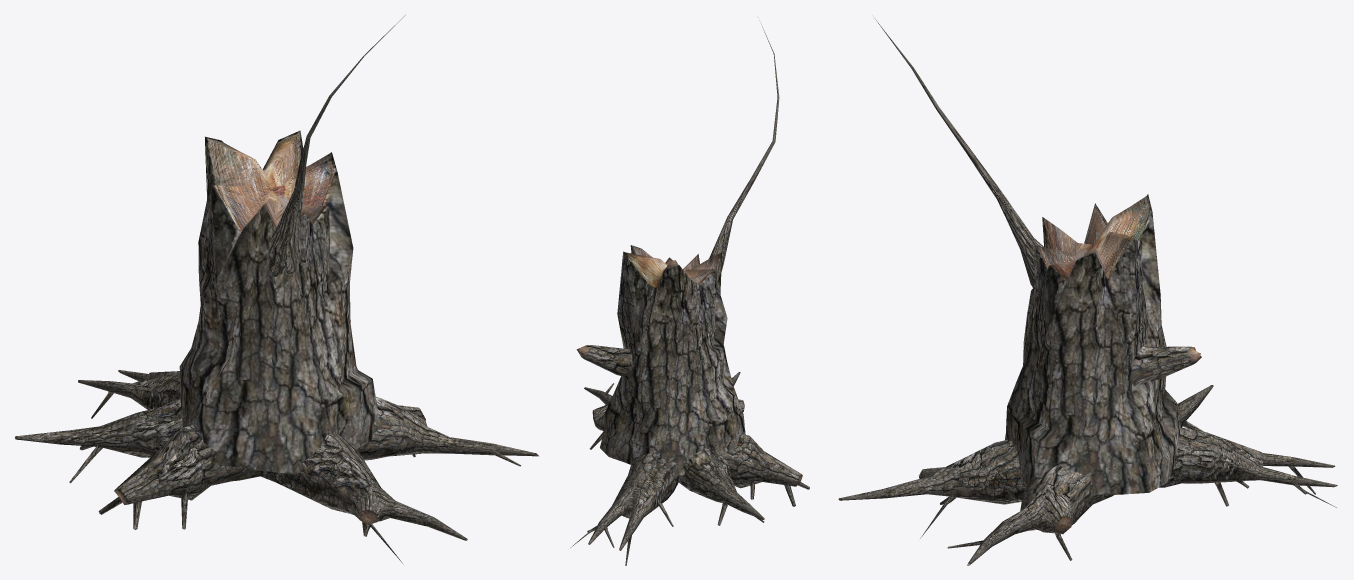
Rendered from stump_oak.gltf.
The picture shows the model from 3 angles, left to right: view 1: azimuth 30°, elevation 25°; view 2: azimuth 150°, elevation 25°; view 3: azimuth 270°, elevation 25°; orthographic projection. The views are drawn at different scales.
Parts seen in each view (by area): view 1: tree-00013; view 2: tree-00013; view 3: tree-00013.
Boxes of the visible parts, x1=… form: tree-00013: x1=14, y1=15, x2=538, y2=563; tree-00013: x1=570, y1=20, x2=809, y2=565; tree-00013: x1=838, y1=18, x2=1337, y2=565.
Size of the model in its own units: 1.04 by 1.48 by 1.3.
Materials: 2 (2 with a texture image).
